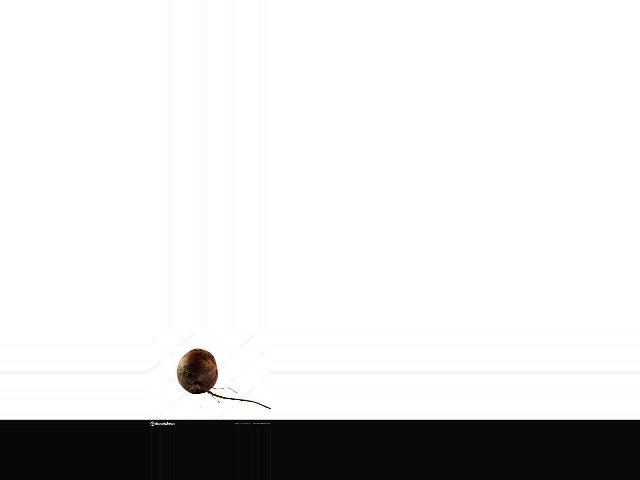beet: (177, 349, 271, 409)
